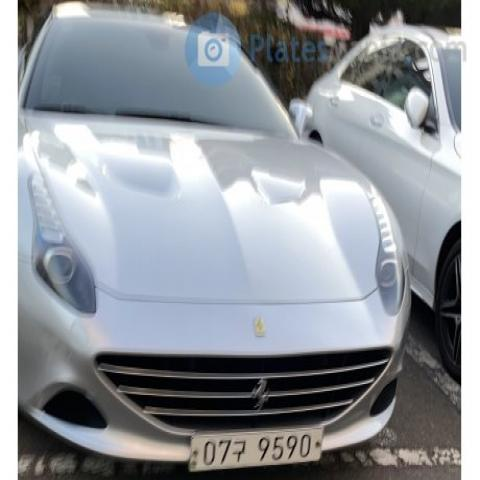LP: (182, 417, 332, 476)
